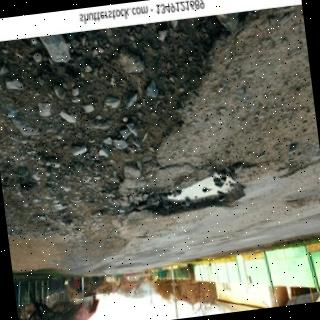pothole: (0, 9, 271, 237), (147, 162, 246, 212)
